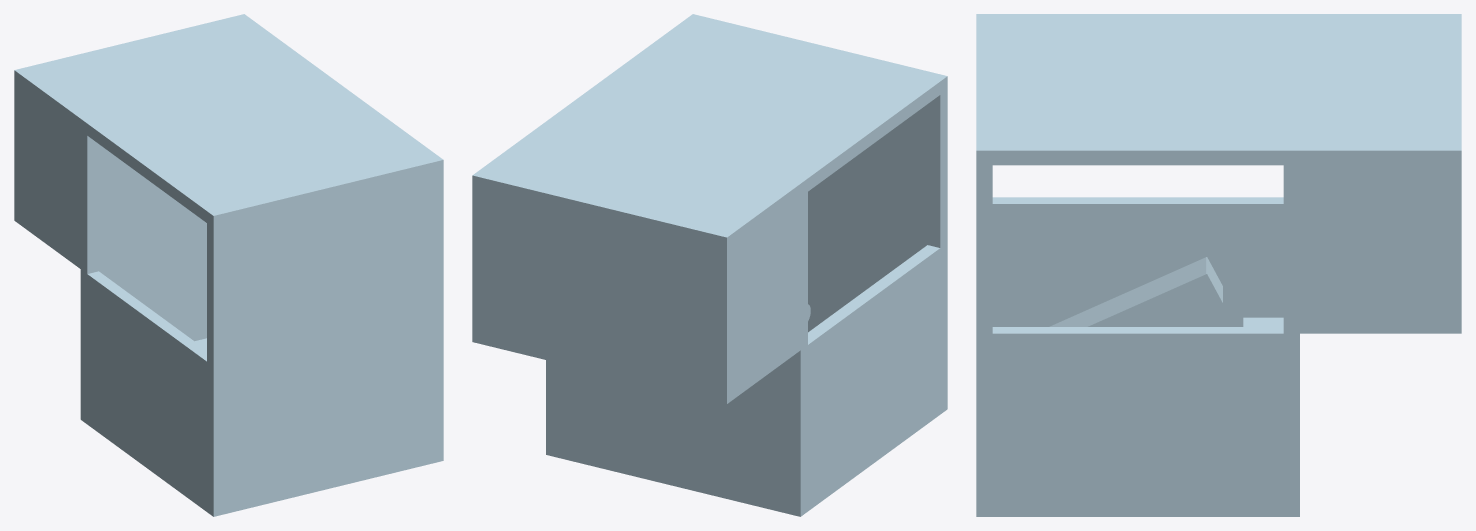
The model's file is Zelle.gltf.
3 views of the same model, side by side, from view 1: azimuth 30°, elevation 25°; view 2: azimuth 150°, elevation 25°; view 3: azimuth 270°, elevation 25° (orthographic). The views are drawn at different scales.
Visible parts, largest first — view 1: Part 1; view 2: Part 1; view 3: Part 1.
Part boxes in pixels (x1,y1,x2,y2): Part 1: (14,14,443,516); Part 1: (472,14,947,516); Part 1: (976,14,1461,516).
Size of the model in its own units: 0.08 by 0.1 by 0.12.
